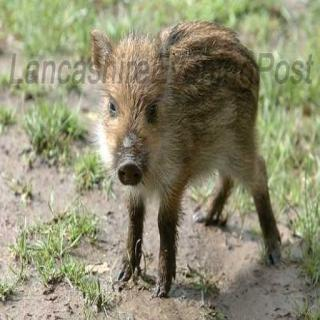Pig: (86, 19, 291, 271)
